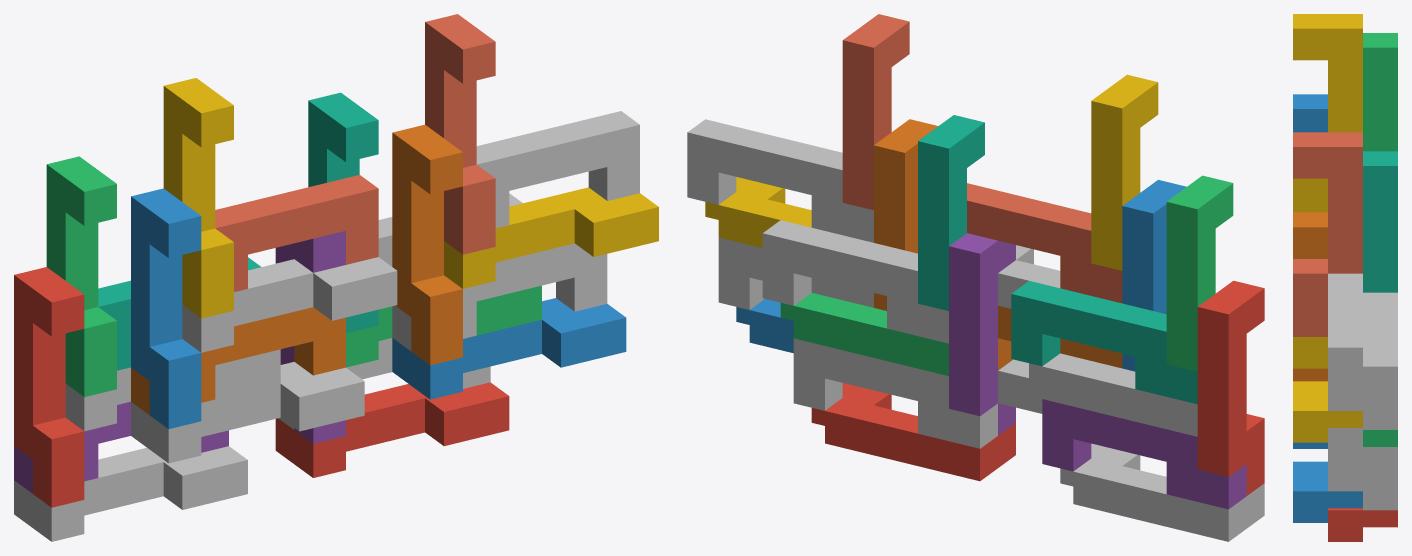
Rendered from tiling.obj.
3 views of the same model, side by side, from view 1: azimuth 30°, elevation 25°; view 2: azimuth 150°, elevation 25°; view 3: azimuth 270°, elevation 25° (orthographic). The views are drawn at different scales.
Parts seen in each view (by area): view 1: copy_1_domain_2, copy_1_domain_1, copy_1_domain_6, copy_1_domain_3, copy_1_domain_4, copy_1_domain_8, copy_2_domain_1, copy_2_domain_8, copy_2_domain_5, copy_3_domain_8, copy_2_domain_6, copy_2_domain_2 (+12 smaller); view 2: copy_3_domain_8, copy_3_domain_3, copy_3_domain_7, copy_1_domain_1, copy_1_domain_5, copy_3_domain_1, copy_3_domain_5, copy_2_domain_1, copy_2_domain_5, copy_1_domain_4, copy_1_domain_8, copy_1_domain_3 (+12 smaller); view 3: copy_1_domain_8, copy_1_domain_4, copy_1_domain_7, copy_3_domain_7, copy_3_domain_8, copy_1_domain_3, copy_2_domain_8, copy_2_domain_6, copy_3_domain_5, copy_3_domain_6, copy_1_domain_6, copy_2_domain_5 (+2 smaller).
Boxes of the visible parts, box(x1,y1,x2,y2) form: copy_1_domain_2: box(131, 188, 201, 428); copy_1_domain_1: box(14, 267, 84, 507); copy_1_domain_6: box(392, 124, 462, 365); copy_1_domain_3: box(46, 156, 116, 396); copy_1_domain_4: box(163, 78, 233, 318); copy_1_domain_8: box(425, 14, 495, 254); copy_2_domain_1: box(14, 446, 247, 541); copy_2_domain_8: box(444, 187, 658, 288); copy_2_domain_5: box(275, 382, 509, 477); copy_3_domain_8: box(476, 111, 639, 228); copy_2_domain_6: box(392, 298, 626, 399); copy_2_domain_2: box(131, 362, 364, 463); copy_3_domain_8: box(687, 119, 873, 242); copy_3_domain_3: box(1011, 281, 1197, 404); copy_3_domain_7: box(762, 220, 948, 343); copy_1_domain_1: box(1197, 280, 1264, 495); copy_1_domain_5: box(949, 233, 1015, 435); copy_3_domain_1: box(1042, 399, 1246, 509); copy_3_domain_5: box(793, 338, 997, 448); copy_2_domain_1: box(1060, 443, 1264, 541); copy_2_domain_5: box(811, 383, 1015, 481); copy_1_domain_4: box(1091, 74, 1158, 270); copy_1_domain_8: box(842, 14, 909, 210); copy_1_domain_3: box(1166, 175, 1233, 371); copy_1_domain_8: box(1293, 132, 1362, 336); copy_1_domain_4: box(1293, 14, 1362, 212); copy_1_domain_7: box(1363, 151, 1397, 292); copy_3_domain_7: box(1363, 292, 1397, 429); copy_3_domain_8: box(1328, 273, 1362, 410); copy_1_domain_3: box(1363, 33, 1397, 151); copy_2_domain_8: box(1293, 337, 1362, 442); copy_2_domain_6: box(1293, 442, 1362, 522); copy_3_domain_5: box(1363, 447, 1397, 510); copy_3_domain_6: box(1328, 428, 1362, 491); copy_1_domain_6: box(1293, 212, 1327, 381); copy_2_domain_5: box(1328, 508, 1397, 541).
Size of the model in its own units: 18 by 12 by 3.
